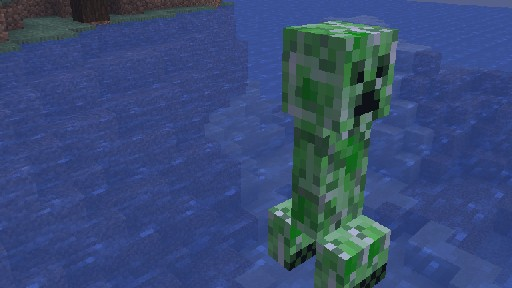creeper: (267, 19, 399, 288)
